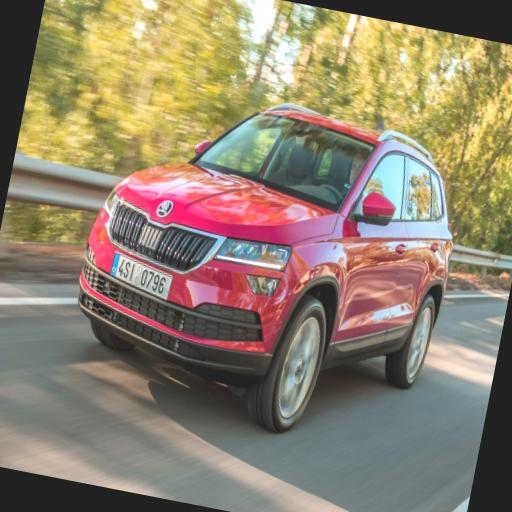Sedan-sDLz: (79, 105, 452, 431)
